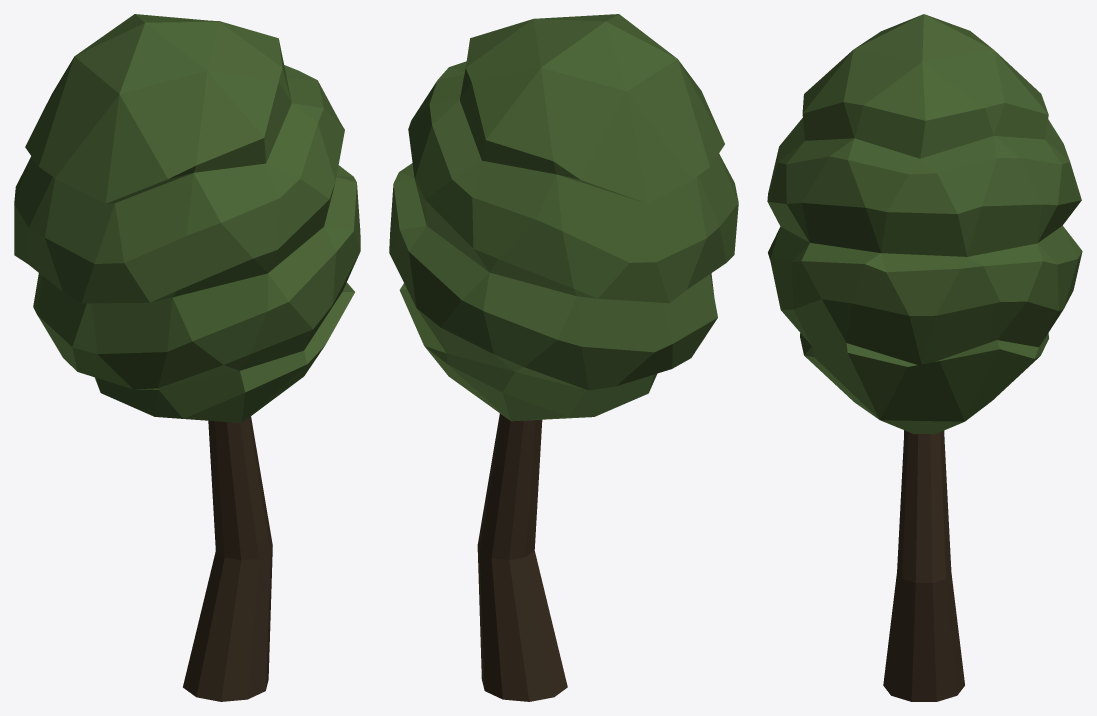
The model's file is SM_small_tree_05.glb.
3 views of the same model, side by side, from view 1: azimuth 30°, elevation 25°; view 2: azimuth 150°, elevation 25°; view 3: azimuth 270°, elevation 25° (orthographic). The views are drawn at different scales.
Visible parts, largest first — view 1: SM_small_tree_05; view 2: SM_small_tree_05; view 3: SM_small_tree_05.
Part boxes in pixels (x1,y1,x2,y2): SM_small_tree_05: (14,14,360,701); SM_small_tree_05: (389,14,738,701); SM_small_tree_05: (767,14,1082,701).
Bounding box in the file's own units: 1.5 × 3.21 × 1.44.
Materials: 1 (1 with a texture image).
